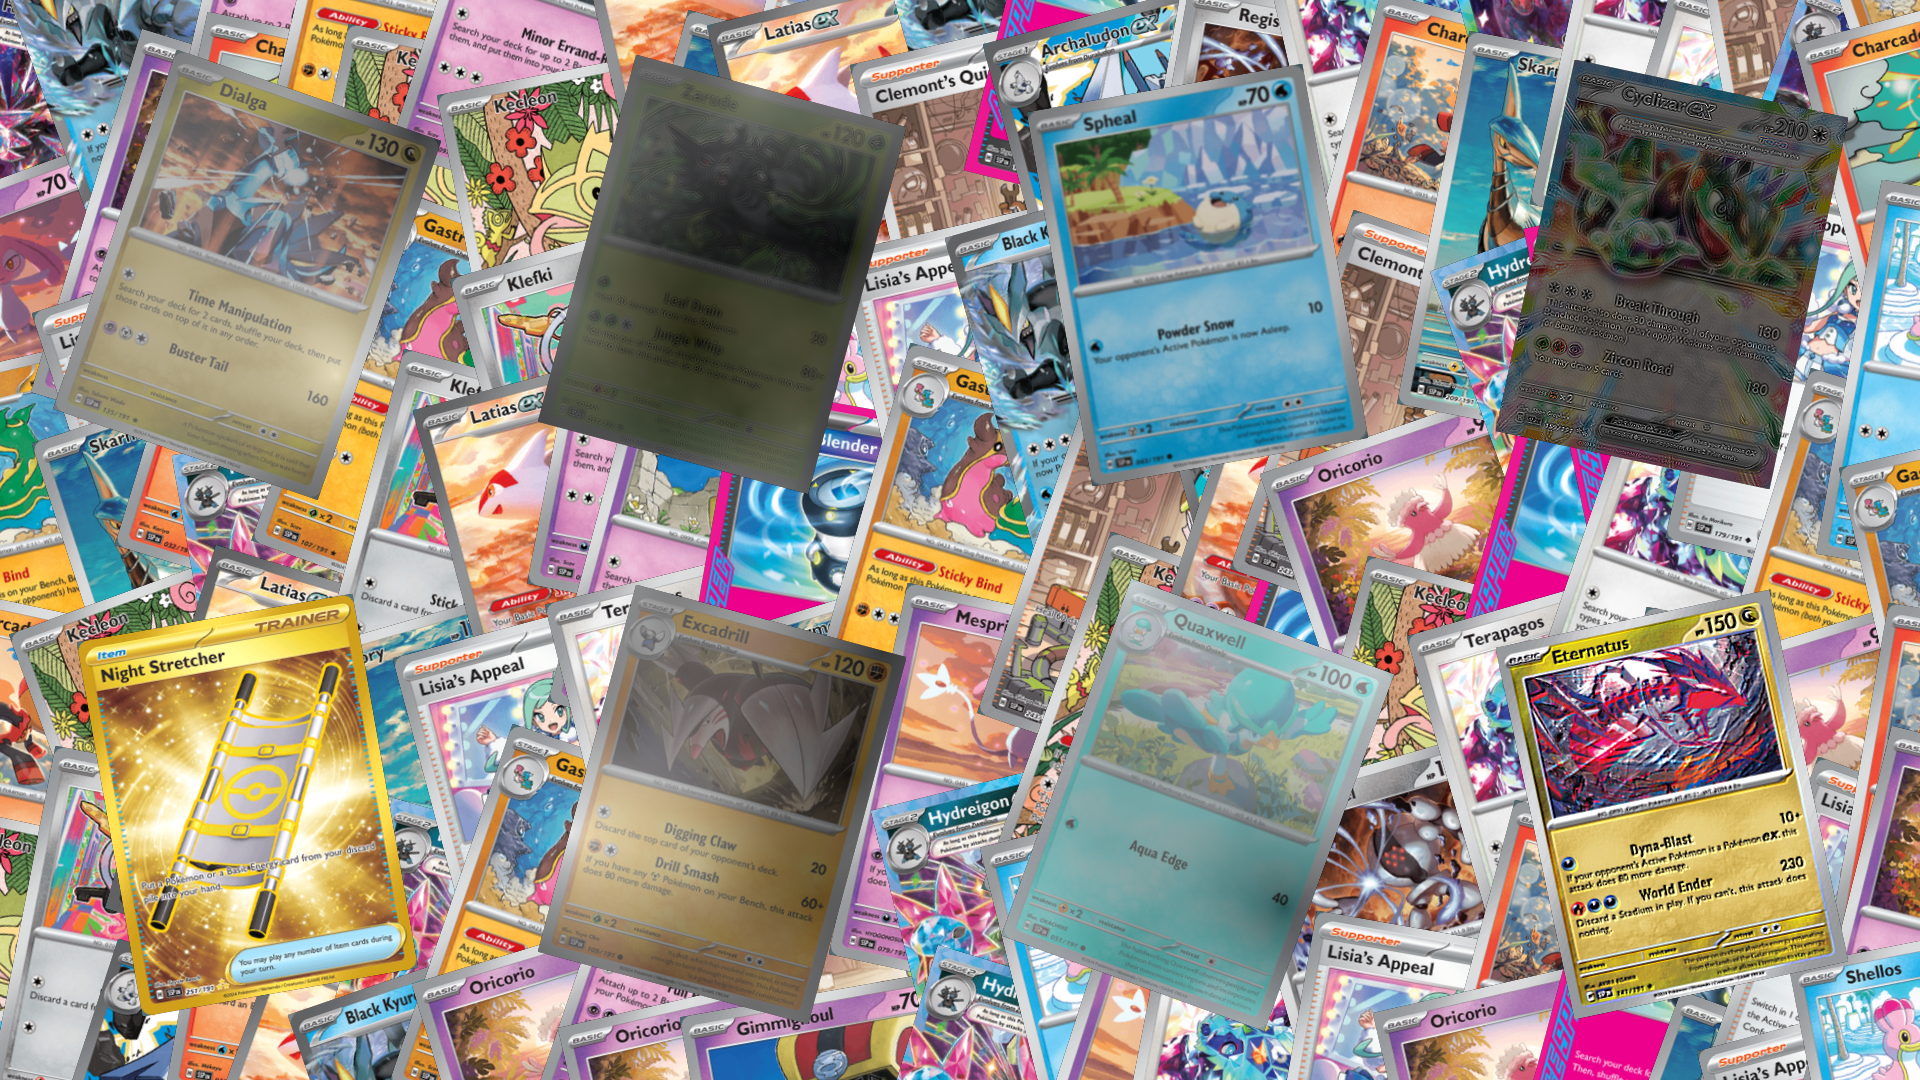Cyclizar_ex: (1495, 59, 1847, 489)
Dialga: (51, 49, 440, 500)
Eternatus: (1495, 589, 1847, 1019)
Excadrill: (537, 584, 906, 1025)
Night_Stretcher: (76, 593, 418, 1015)
Quaxwell: (1000, 578, 1394, 1031)
Spheal: (1026, 63, 1367, 487)
Zarude: (537, 54, 906, 495)
